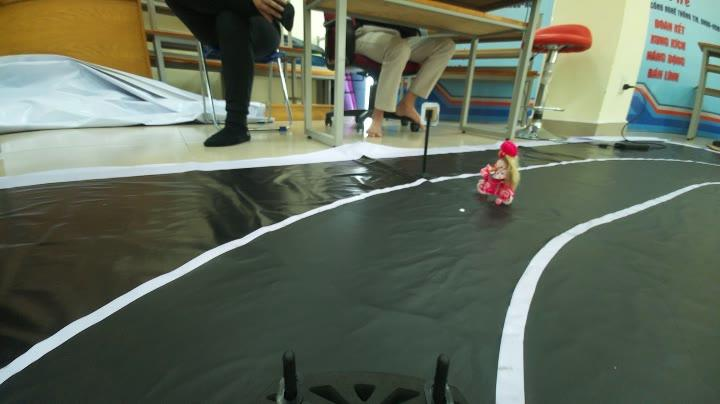pedestrian: (474, 136, 523, 212)
